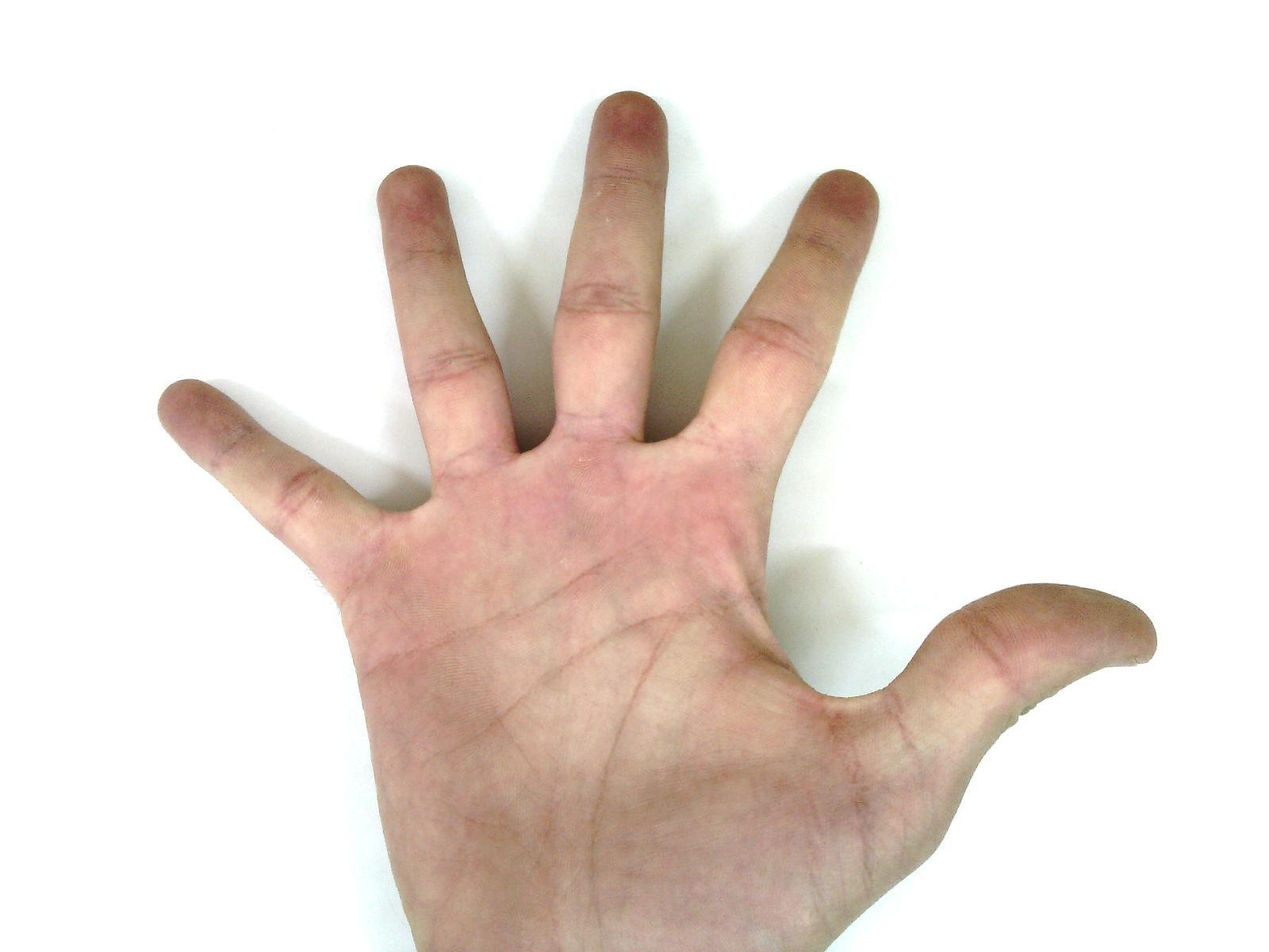open_palm: (155, 89, 1160, 951)
